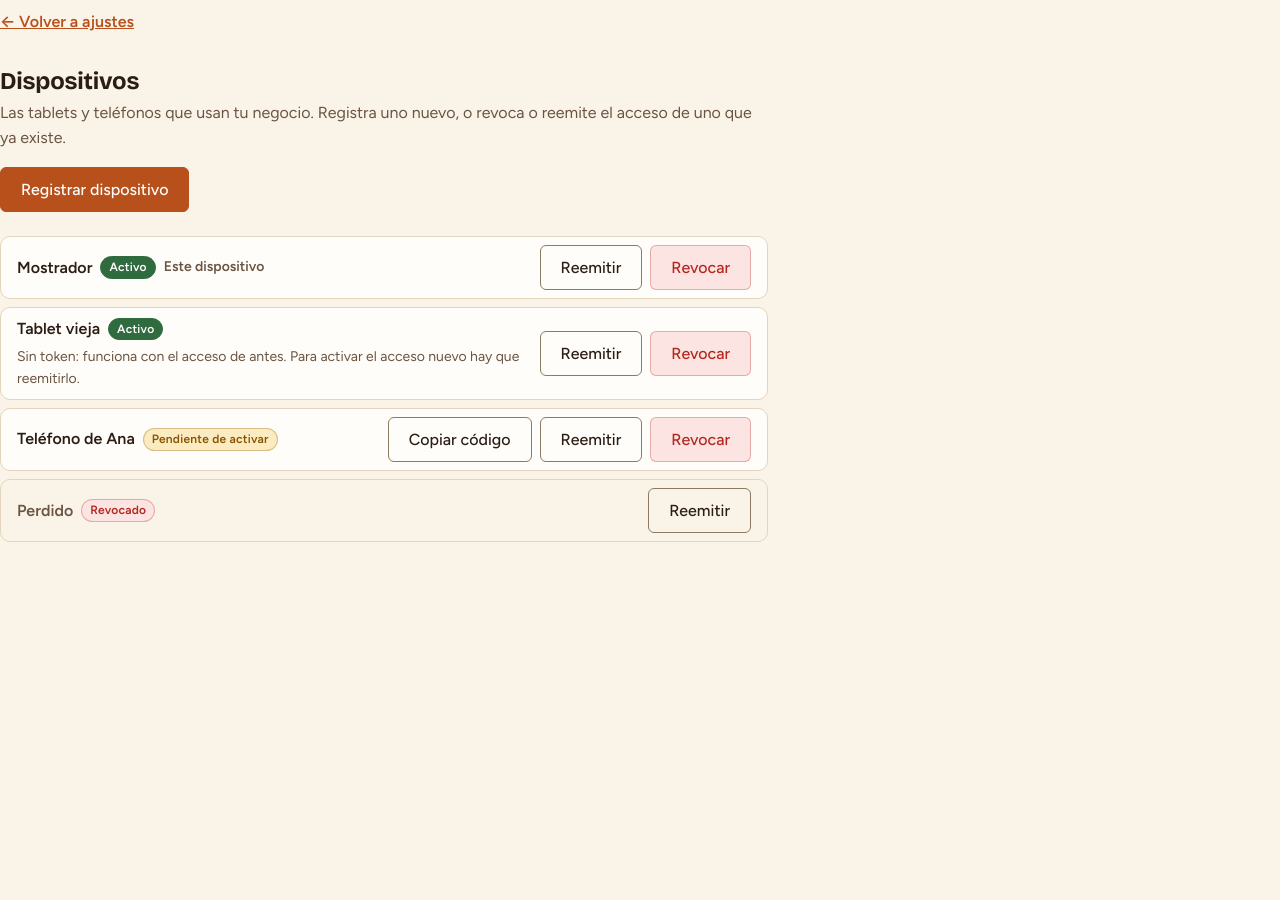
Scenario: DevicesView — registrar un dispositivo › con correo: lo envía, y el aviso dice adónde fue SIN mostrar ningún código
Click the button "Registrar dispositivo". click: click(95, 189)
box: [0, 167, 189, 212]
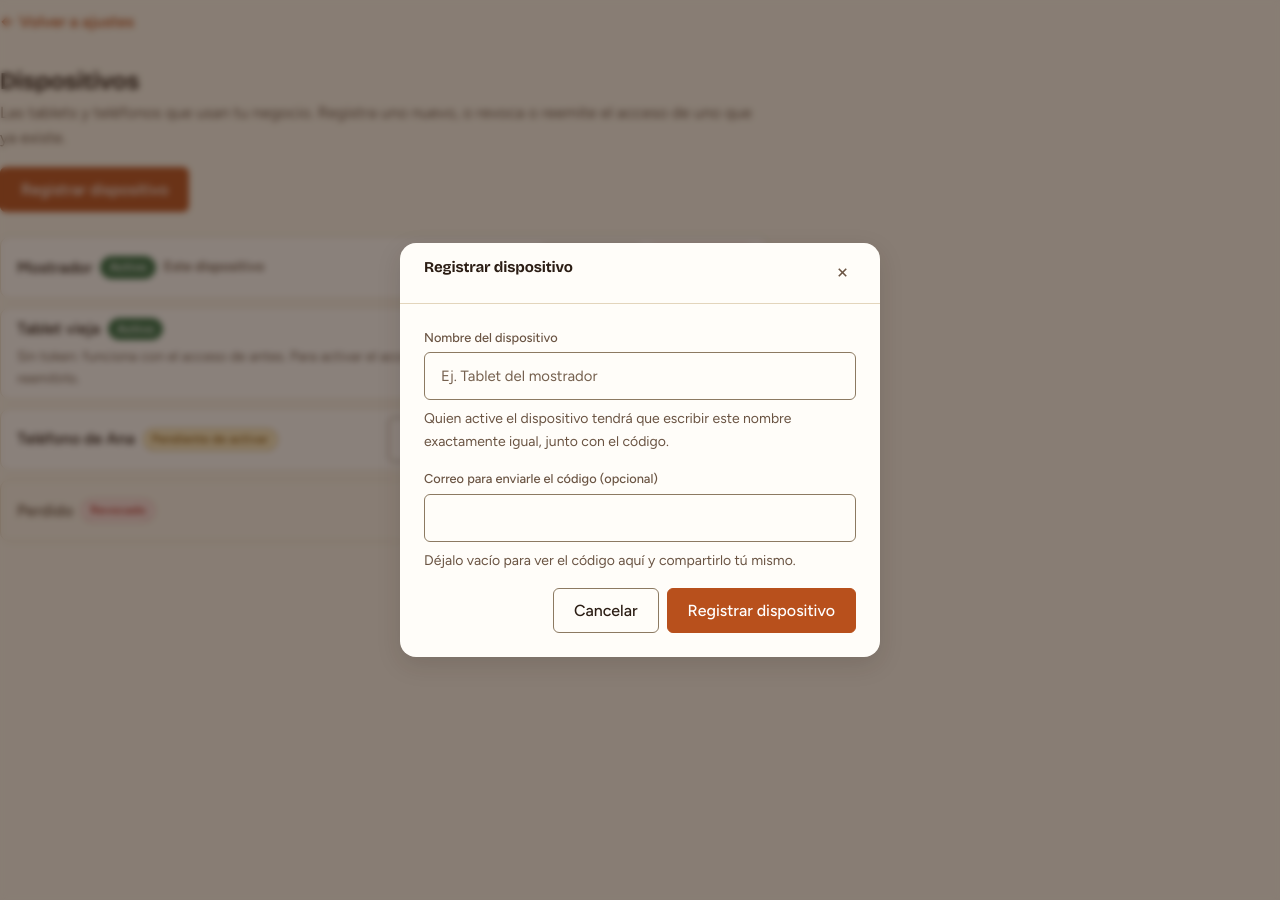
Type "Tablet nueva" into the field labelled "Nombre del dispositivo". click: (640, 376)
box: [424, 352, 856, 400]
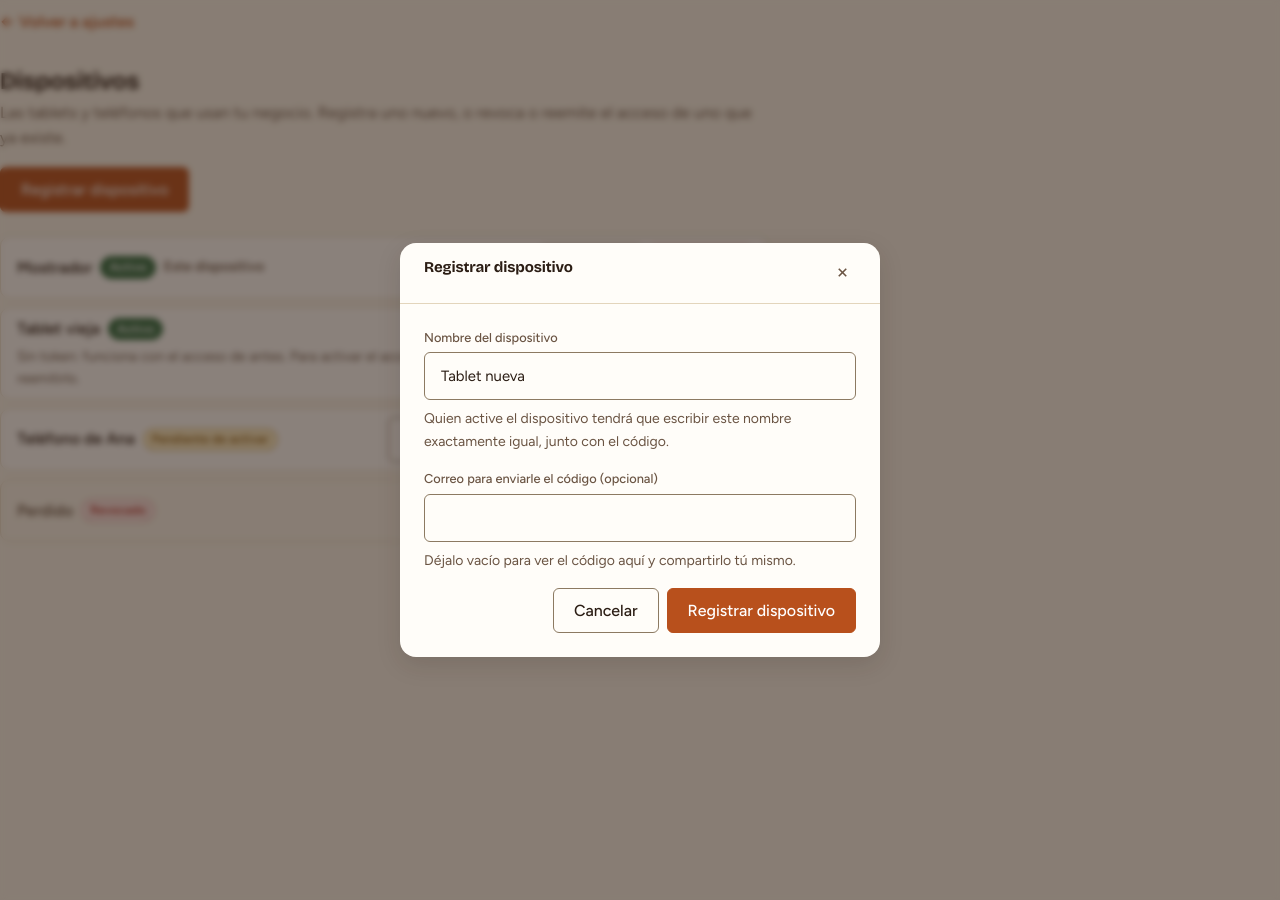
Type "ana@example.com" into the field labelled "Correo para enviarle el código (opcional)". click: (640, 518)
box: [424, 494, 856, 542]
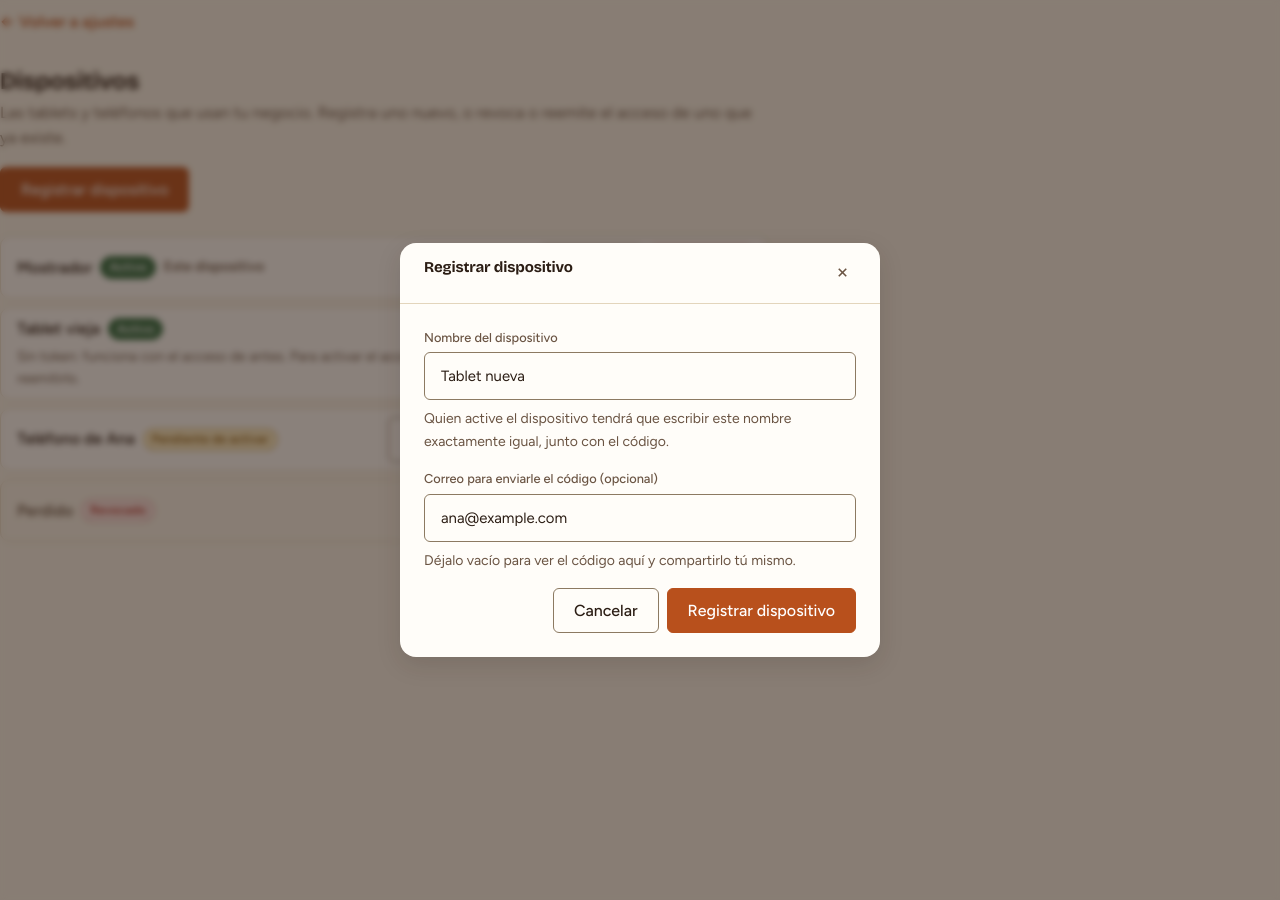
Submit the form with class "device-create-form", box [424, 328, 856, 633]
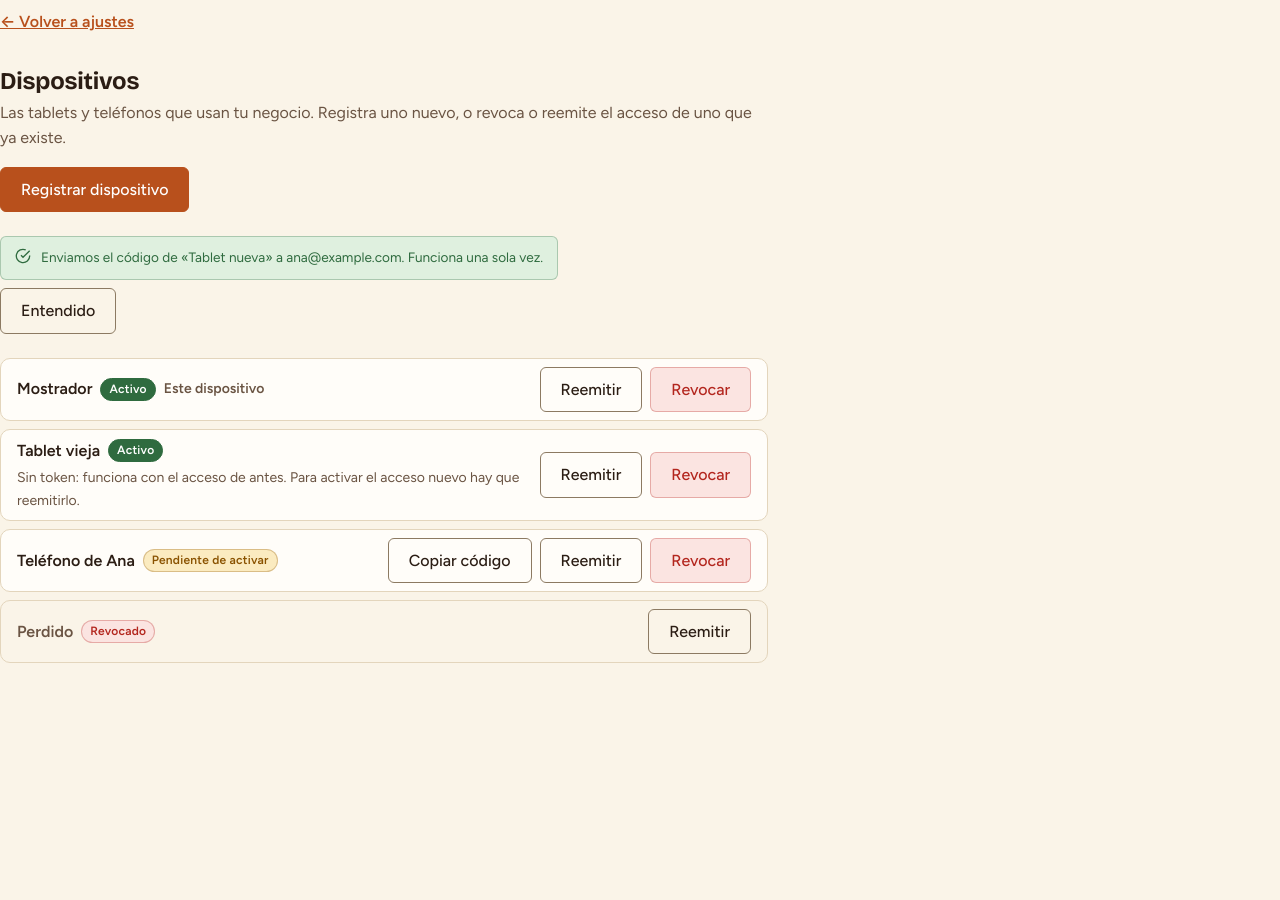
Result: the element with class "device-code-notice" shows "ana@example.com" at [41, 249, 543, 265]
